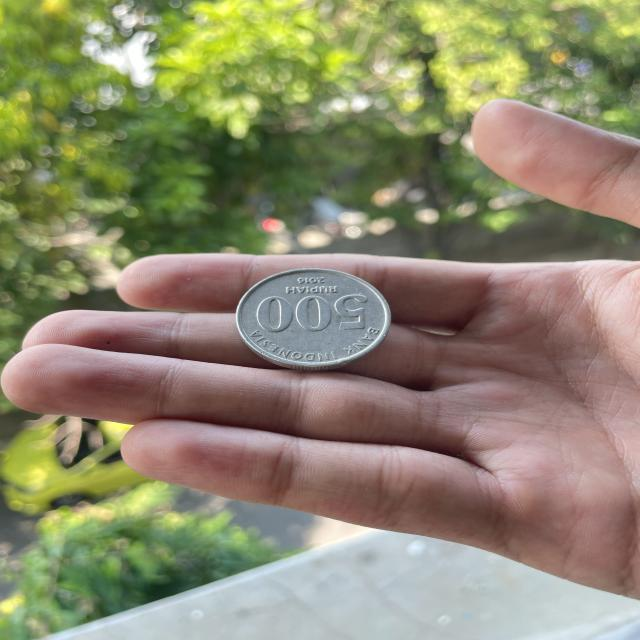500-kuning: (237, 269, 390, 370), (280, 300, 283, 302)
